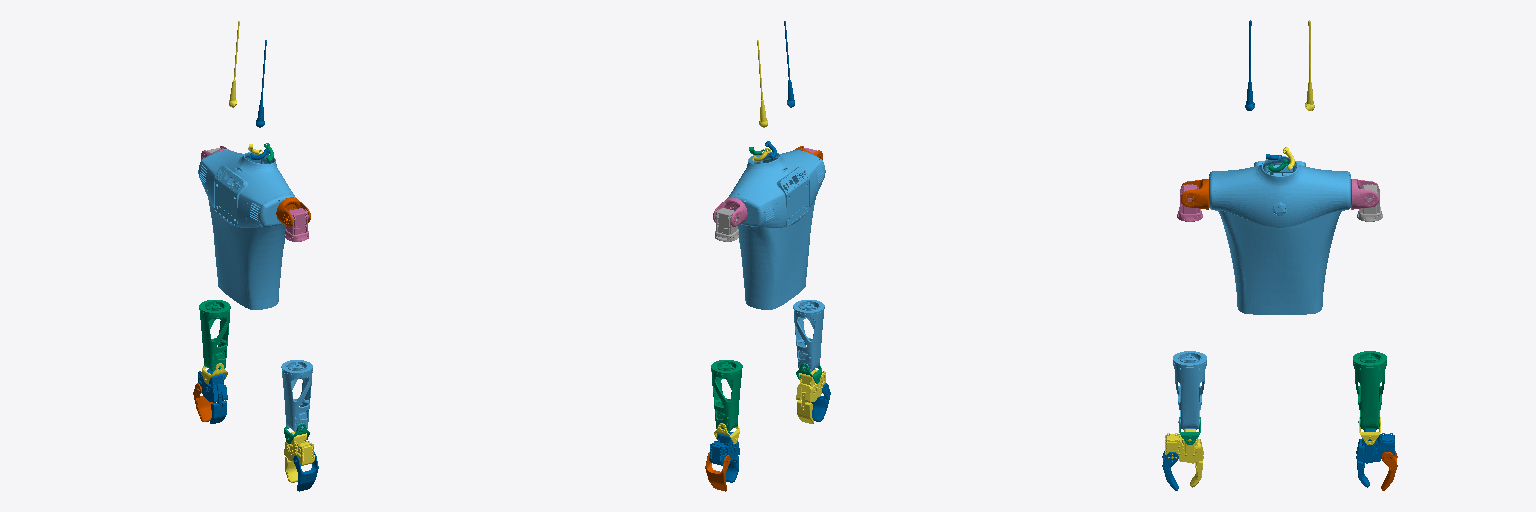
robot.urdf — reachy:
<?xml version="1.0"?>
<robot name="reachy">
    <mujoco>
        <compiler meshdir="data/reachy/reachy_meshes/" balanceinertia="true"/>
    </mujoco>
<!-- Torso Link -->

<link name="pedestal"/>

<link name="torso">
    <inertial>
        <origin xyz="0.0 0.019 -0.009" rpy="0.0 0.0 0.0"/>
        <mass value="0.527"/>
        <inertia ixx="2.89598e-3" ixy="-1.16791e-6" ixz="-8.28749e-6" iyy="4.491e-3" iyz="2.343e-4" izz="3.995e-3"/>
    </inertial>
    <visual name="">
        <origin xyz="0.0 0.0 0.0" rpy="0.0 0.0 0.0"/>
        <geometry>
            <mesh filename="data/reachy/reachy_meshes/torso.obj"/>
        </geometry>
    </visual>
    <collision>
        <origin xyz="0 0 -0.1" rpy="0 0.05 0" />
        <geometry>
            <box size="0.11 0.2 0.32" />
        </geometry>
    </collision>
</link>

<!-- Head Links -->

<link name="head">
    <inertial>
        <origin xyz="-0.009 -0.002 0.059" rpy="0.0 0.0 0.0"/>
        <mass value="0.237"/>
        <inertia ixx="1.676e-3" ixy="3.068e-6" ixz="1.2449e-4" iyy="1.368e-3" iyz="3.360e-5" izz="8.425e-4"/>
    </inertial>
    <visual name="">
        <origin xyz="0.0 0.0 0.0" rpy="0.0 0.0 0.0"/>
        <geometry>
            <mesh filename="data/reachy/reachy_meshes/head.obj"/>
        </geometry>
    </visual>
    <collision>
        <origin xyz="-0.009 -0.002 0.059" rpy="1.57 0.0 0.0"/>
        <geometry>
            <cylinder length="0.15" radius="0.06" />
        </geometry>
    </collision>
</link>

<link name="l_antenna_link">
    <inertial>
        <origin xyz="-0.001 0.0 0.008" rpy="0.0 0.0 0.0"/>
        <mass value="0.004"/>
        <inertia ixx="1.794e-7" ixy="-1.240e-5" ixz="1.91701e-8" iyy="1.5e-7" iyz="3.169e-6" izz="1.933e-7"/>
    </inertial>
    <visual name="">
        <origin xyz="0.0 0.0 0.0" rpy="0.0 0.0 0.0"/>
        <geometry>
            <mesh filename="data/reachy/reachy_meshes/antenna.obj"/>
        </geometry>
    </visual>
    <collision>
        <origin xyz="0.1 0.0 0.1" rpy="0.0 0 0.0"/>
        <geometry>
            <cylinder length="0.0" radius="0.0" />
        </geometry>
    </collision>
</link>

<link name="r_antenna_link">
    <inertial>
        <origin xyz="-0.001 0.0 0.008" rpy="0.0 0.0 0.0"/>
        <mass value="0.004"/>
        <inertia ixx="1.794e-7" ixy="-1.240e-5" ixz="1.91701e-8" iyy="1.5e-7" iyz="3.169e-6" izz="1.933e-7"/>
    </inertial>
    <visual name="">
        <origin xyz="0.0 0.0 0.0" rpy="0.0 0.0 0.0"/>
        <geometry>
            <mesh filename="data/reachy/reachy_meshes/antenna.obj"/>
        </geometry>
    </visual>
    <collision>
        <origin xyz="0.0 0.0 0.0" rpy="0.0 0.0 0.0"/>
        <geometry>
            <cylinder length="0.0" radius="0.0" />
        </geometry>
    </collision>
</link>

<!-- Right Arm Links -->

<link name="r_shoulder">
    <inertial>
        <origin xyz="-0.016 0.036 0.0" rpy="1.57 1.57 0.0"/>
        <mass value="0.053"/>
        <inertia ixx="3.308e-4" ixy="9.972e-8" ixz="-2.037e-9" iyy="4.650e-5" iyz="2.113e-6" izz="3.545e-5"/>
    </inertial>
    <visual name="">
        <origin xyz="0.0 0.04 0.0" rpy="1.57 1.57 0.0"/>
        <geometry>
            <mesh filename="data/reachy/reachy_meshes/shoulder.obj"/>
        </geometry>
    </visual>
    <collision>
        <origin xyz="0.0 0.04 0.0" rpy="1.57 1.57 0.0"/>
        <geometry>
            <cylinder length="0.09" radius="0.035" />
        </geometry>
    </collision>
</link>

<link name="r_shoulder_x">
    <inertial>
        <origin xyz="-0.0 0.0 -0.019" rpy="0.0 0.0 0.0"/>
        <mass value="0.158"/>
        <inertia ixx="6.887e+4" ixy="5.393e+0" ixz="-9.155e+2" iyy="7.895e+4" iyz="4.512e-1" izz="4.235e+4"/>
    </inertial>
    <visual name="">
        <origin xyz="0.0 0.0 0.0" rpy="0.0 0.0 0.0"/>
        <geometry>
            <mesh filename="data/reachy/reachy_meshes/shoulder_x.obj"/>
        </geometry>
    </visual>
    <collision>
        <origin xyz="0 0 -0.02" rpy="0.0 0.0 0.0"/>
        <geometry>
            <cylinder length="0.04" radius="0.035" />
        </geometry>
    </collision>
</link>

<link name="r_upper_arm">
    <inertial>
        <origin xyz="-0.004 0.0 -0.1426" rpy="0.0 0.0 0.0"/>
        <mass value="0.430"/>
        <inertia ixx="3.264e-3" ixy="-4.027e-8" ixz="1.395e-4" iyy="3.345e-3" iyz="1.885e-6" izz="2.616e-4"/>
    </inertial>
    <visual name="">
        <origin xyz="0.0 0.0 -0.0526" rpy="0.0 0.0 0.0"/>
        <geometry>
            <mesh filename="data/reachy/reachy_meshes/upper_arm.obj"/>
        </geometry>
    </visual>
    <collision>
        <origin xyz="0.0 0.0 -0.16" rpy="0.0 0.0 0.0"/>
        <geometry>
            <cylinder length="0.25" radius="0.04" />
        </geometry>
    </collision>
</link>

<link name="r_forearm">
    <inertial>
        <origin xyz="-0.008 0.0 -0.058" rpy="0.0 0.0 0.0"/>
        <mass value="0.162"/>
        <inertia ixx="2.532e-4" ixy="-2.999e-8" ixz="1.448e-5" iyy="2.538e-4" iyz="-4.323e-8" izz="1.234e-4"/>
    </inertial>
    <visual name="">
        <origin xyz="0.0 0.0 0.0" rpy="0.0 0.0 0.0"/>
        <geometry>
            <mesh filename="data/reachy/reachy_meshes/forearm.obj"/>
        </geometry>
    </visual>
    <collision>
        <origin xyz="0.0 0.0 -0.058" rpy="0.0 0.0 0.0"/>
        <geometry>
            <cylinder length="0.09" radius="0.04" />
        </geometry>
    </collision>
</link>

<link name="r_wrist">
    <inertial>
        <origin xyz="0.0 0.0 -0.193" rpy="0.0 0.0 0.0"/>
        <mass value="0.197"/>
        <inertia ixx="6.157e-4" ixy="5.706e-8" ixz="-1.045e-5" iyy="6.280e-4" iyz="4.862e-7" izz="1.050e-4"/>
    </inertial>
    <visual name="">
        <origin xyz="0.0 0.0 -0.100" rpy="0.0 0.0 0.0"/>
        <geometry>
            <mesh filename="data/reachy/reachy_meshes/wrist.obj"/>
        </geometry>
    </visual>
    <collision>
        <origin xyz="0.0 0.0 -0.18" rpy="0.0 0.0 0.0"/>
        <geometry>
            <cylinder length="0.14" radius="0.035" />
        </geometry>
    </collision>
</link>

<link name="r_wrist2hand">
    <inertial>
        <origin xyz="0.0 0.0 0.014" rpy="0.0 0.0 0.0"/>
        <mass value="0.01"/>
        <inertia ixx="6.750e-6" ixy="3.732e-11" ixz="-1.581e-11" iyy="6.060e-6" iyz="-1.746e-12" izz="5.774e-6"/>
    </inertial>
    <visual name="">
        <origin xyz="0.0 0.0 0.0" rpy="0.0 0.0 0.0"/>
        <geometry>
            <mesh filename="data/reachy/reachy_meshes/wrist2hand.obj"/>
        </geometry>
    </visual>
    <collision>
        <origin xyz="0.0 0.0 -0.03" rpy="0.0 0.0 0.0"/>
        <geometry>
            <cylinder length="0.06" radius="0.03" />
        </geometry>
    </collision>
</link>

<link name="r_gripper_thumb">
    <inertial>
        <origin xyz="0.032 -0.008 0.0" rpy="0.0 1.57 0.0"/>
        <mass value="0.173"/>
        <inertia ixx="1.083e-4" ixy="-3.476e-5" ixz="1.331e-6" iyy="1.421e-4" iyz="6.730e-7" izz="2.112e-4"/>
    </inertial>
    <visual name="">
        <origin xyz="0.0 0.0 0.0" rpy="0.0 1.57 0.0"/>
        <geometry>
            <mesh filename="data/reachy/reachy_meshes/r_gripper_thumb.obj"/>
        </geometry>
    </visual>
    <collision>
        <origin xyz="0.0 0.02 -0.06" rpy="0.0 1.57 0.0"/>
        <geometry>
            <box size="0.1 0.012 0.035" />
        </geometry>
    </collision>
</link>

<link name="r_gripper_finger">
    <inertial>
        <origin xyz="-0.005 -0.043 -0.0" rpy="0.0 1.57 0.0"/>
        <mass value="0.035"/>
        <inertia ixx="9.166e-5" ixy="-6.559e-6" ixz="-3.952e-8" iyy="1.062e-5" iyz="5.276e-9" izz="8.704e-5"/>
    </inertial>
    <visual name="">
        <origin xyz="0.0 0.0 0.0" rpy="0.0 1.57 0.0"/>
        <geometry>
            <mesh filename="data/reachy/reachy_meshes/r_gripper_finger.obj"/>
        </geometry>
    </visual>
    <collision>
        <origin xyz="0.0 -0.01 -0.02" rpy="0.0 1.57 0.0"/>
        <geometry>
            <box size="0.1 0.012 0.035" />
        </geometry>
    </collision>
</link>

<link name="right_tip"/>


<!-- Left Arm Links -->

<link name="l_shoulder">
    <inertial>
        <origin xyz="-0.016 0.044 0.0" rpy="-1.57 1.57 0.0"/>
        <mass value="0.053"/>
        <inertia ixx="3.308e-4" ixy="9.972e-8" ixz="-2.037e-9" iyy="4.650e-5" iyz="2.113e-6" izz="3.545e-5"/>
    </inertial>
    <visual name="">
        <origin xyz="0.0 -0.04 0.0" rpy="-1.57 1.57 0.0"/>
        <geometry>
            <mesh filename="data/reachy/reachy_meshes/shoulder.obj"/>
        </geometry>
    </visual>
    <collision>
        <origin xyz="0.0 -0.04 0.0" rpy="-1.57 1.57 0.0"/>
        <geometry>
            <cylinder length="0.09" radius="0.035" />
        </geometry>
    </collision>
</link>

<link name="l_shoulder_x">
    <inertial>
        <origin xyz="0.0 0.0 -0.019" rpy="0.0 0.0 0.0"/>
        <mass value="0.158"/>
        <inertia ixx="6.887e+4" ixy="5.393e+0" ixz="-9.155e+2" iyy="7.895e+4" iyz="4.512e-1" izz="4.235e+4"/>
    </inertial>
    <visual name="">
        <origin xyz="0.0 0.0 0.0" rpy="0.0 0.0 0.0"/>
        <geometry>
            <mesh filename="data/reachy/reachy_meshes/shoulder_x.obj"/>
        </geometry>
    </visual>
    <collision>
        <origin xyz="0 0 -0.02" rpy="0.0 0.0 0.0"/>
        <geometry>
            <cylinder length="0.04" radius="0.035" />
        </geometry>
    </collision>
</link>

<link name="l_upper_arm">
    <inertial>
        <origin xyz="-0.004 0.0 -0.1426" rpy="0.0 0.0 0.0"/>
        <mass value="0.430"/>
        <inertia ixx="3.264e-3" ixy="-4.027e-8" ixz="1.395e-4" iyy="3.345e-3" iyz="1.885e-6" izz="2.616e-4"/>
    </inertial>
    <visual name="">
        <origin xyz="0.0 0.0 -0.0526" rpy="0.0 0.0 0.0"/>
        <geometry>
            <mesh filename="data/reachy/reachy_meshes/upper_arm.obj"/>
        </geometry>
    </visual>
    <collision>
        <origin xyz="0.0 0.0 -0.16" rpy="0.0 0.0 0.0"/>
        <geometry>
            <cylinder length="0.25" radius="0.04" />
        </geometry>
    </collision>
</link>

<link name="l_forearm">
    <inertial>
        <origin xyz="-0.008 0.0 -0.058" rpy="0.0 0.0 0.0"/>
        <mass value="0.162"/>
        <inertia ixx="2.532e-4" ixy="-2.999e-8" ixz="1.448e-5" iyy="2.538e-4" iyz="-4.323e-8" izz="1.234e-4"/>
    </inertial>
    <visual name="">
        <origin xyz="0.0 0.0 0.0" rpy="0.0 0.0 0.0"/>
        <geometry>
            <mesh filename="data/reachy/reachy_meshes/forearm.obj"/>
        </geometry>
    </visual>
    <collision>
        <origin xyz="0.0 0.0 -0.058" rpy="0.0 0.0 0.0"/>
        <geometry>
            <cylinder length="0.09" radius="0.04" />
        </geometry>
    </collision>
</link>

<link name="l_wrist">
    <inertial>
        <origin xyz="0.0 0.0 -0.193" rpy="0.0 0.0 0.0"/>
        <mass value="0.197"/>
        <inertia ixx="6.157e-4" ixy="5.706e-8" ixz="-1.045e-5" iyy="6.280e-4" iyz="4.862e-7" izz="1.050e-4"/>
    </inertial>
    <visual name="">
        <origin xyz="0.0 0.0 -0.1" rpy="0.0 0.0 0.0"/>
        <geometry>
            <mesh filename="data/reachy/reachy_meshes/wrist.obj"/>
        </geometry>
    </visual>
    <collision>
        <origin xyz="0.0 0.0 -0.18" rpy="0.0 0.0 0.0"/>
        <geometry>
            <cylinder length="0.14" radius="0.035" />
        </geometry>
    </collision>
</link>

<link name="l_wrist2hand">
    <inertial>
        <origin xyz="0.0 0.0 0.014" rpy="0.0 0.0 0.0"/>
        <mass value="0.01"/>
        <inertia ixx="6.750e-6" ixy="3.732e-11" ixz="-1.581e-11" iyy="6.060e-6" iyz="-1.746e-12" izz="5.774e-6"/>
    </inertial>
    <visual name="">
        <origin xyz="0.0 0.0 0.0" rpy="0.0 0.0 0.0"/>
        <geometry>
            <mesh filename="data/reachy/reachy_meshes/wrist2hand.obj"/>
        </geometry>
    </visual>
    <collision>
        <origin xyz="0.0 0.0 -0.03" rpy="0.0 0.0 0.0"/>
        <geometry>
            <cylinder length="0.06" radius="0.03" />
        </geometry>
    </collision>
</link>

<link name="l_gripper_thumb">
    <inertial>
        <origin xyz="0.032 0.008 0.0" rpy="0.0 1.57 0.0"/>
        <mass value="0.173"/>
        <inertia ixx="1.088e+5" ixy="3.479e+4" ixz="1.357e+3" iyy="1.422e+5" iyz="-7.930e+2" izz="2.116e+5"/>
    </inertial>
    <visual name="">
        <origin xyz="0.0 0.0 0.0" rpy="0.0 1.57 0.0"/>
        <geometry>
            <mesh filename="data/reachy/reachy_meshes/l_gripper_thumb.obj"/>
        </geometry>
    </visual>
    <collision>
        <origin xyz="0.0 -0.02 -0.06" rpy="0.0 1.57 0.0"/>
        <geometry>
            <box size="0.1 0.012 0.035" />
        </geometry>
    </collision>
</link>

<link name="l_gripper_finger">
    <inertial>
        <origin xyz="0.005 -0.043 0.0" rpy="0.0 1.57 0.0"/>
        <mass value="0.035"/>
        <inertia ixx="9.165e-5" ixy="6.559e-6" ixz="3.609e-10" iyy="1.062e-5" iyz="4.666e-9" izz="8.705e-5"/>
    </inertial>
    <visual name="">
        <origin xyz="0.0 0.0 0.0" rpy="0.0 1.57 0.0"/>
        <geometry>
            <mesh filename="data/reachy/reachy_meshes/l_gripper_finger.obj"/>
        </geometry>
    </visual>
    <collision>
        <origin xyz="0.0 0.01 -0.02" rpy="0.0 1.57 0.0"/>
        <geometry>
            <box size="0.1 0.012 0.035" />
        </geometry>
    </collision>
</link>

<link name="left_tip"/>

<!-- Head and Torso joints -->

<joint name="pedestal" type="fixed">
    <origin xyz="0 0 1" rpy="0 0 0" />
    <parent link="pedestal" />
    <child link="torso" />
</joint>

<joint name="r_antenna" type="revolute">
    <origin xyz="-0.052 -0.057 0.086" rpy="-0.166 -1.054 1.11"/>
    <parent link="head"/>
    <child link="r_antenna_link"/>
    <axis xyz="0 0 1"/>
   <limit lower="-2.618" upper="2.618" effort="10." velocity="0.0"/>
</joint>

<joint name="l_antenna" type="revolute">
    <origin xyz="-0.052 0.057 0.086" rpy="0.166 -1.054 -1.11"/>
    <parent link="head"/>
    <child link="l_antenna_link"/>
    <axis xyz="0 0 1"/>
   <limit lower="-2.618" upper="2.618" effort="10." velocity="0.0"/>
</joint>


<!-- Right Arm joint -->

<joint name="r_shoulder_pitch" type="revolute">
    <origin xyz="0.0 -0.19 0.0" rpy="0.0 0.0 0.0"/>
    <parent link="torso"/>
    <child link="r_shoulder"/>
    <axis xyz="0 1 0"/>
   <limit lower="-2.618" upper="1.57" effort="10." velocity="0.0"/>
</joint>

<joint name="r_shoulder_roll" type="revolute">
    <origin xyz="0 0 0" rpy="0.0 0.0 0.0"/>
    <parent link="r_shoulder"/>
    <child link="r_shoulder_x"/>
    <axis xyz="1 0 0"/>
   <limit lower="-3.14" upper="0.174" effort="10." velocity="0.0"/>
</joint>

<joint name="r_arm_yaw" type="revolute">
    <origin xyz="0 0 0" rpy="0.0 0.0 0.0"/>
    <parent link="r_shoulder_x"/>
    <child link="r_upper_arm"/>
    <axis xyz="0 0 1"/>
   <limit lower="-1.57" upper="1.57" effort="10." velocity="0.0"/>
</joint>

<joint name="r_elbow_pitch" type="revolute">
    <origin xyz="0 0 -0.28" rpy="0.0 0.0 0.0"/>
    <parent link="r_upper_arm"/>
    <child link="r_forearm"/>
    <axis xyz="0 1 0"/>
   <limit lower="-2.182" upper="0" effort="10." velocity="0.0"/>
</joint>

<joint name="r_forearm_yaw" type="revolute">
    <origin xyz="0 0 0" rpy="0.0 0.0 0.0"/>
    <parent link="r_forearm"/>
    <child link="r_wrist"/>
    <axis xyz="0 0 1"/>
   <limit lower="-1.745" upper="1.745" effort="10." velocity="0.0"/>
</joint>

<joint name="r_wrist_pitch" type="revolute">
    <origin xyz="0 0 -0.25" rpy="0.0 0.0 0.0"/>
    <parent link="r_wrist"/>
    <child link="r_wrist2hand"/>
    <axis xyz="0 1 0"/>
   <limit lower="-0.785" upper="0.785" effort="10." velocity="0.0"/>
</joint>


<joint name="r_wrist_roll" type="revolute">
    <origin xyz="0 0 -0.0325" rpy="0.0 0.0 0.0"/>
    <parent link="r_wrist2hand"/>
    <child link="r_gripper_thumb"/>
    <axis xyz="1 0 0"/>
   <limit lower="-0.785" upper="0.785" effort="10." velocity="0.0"/>
</joint>

<joint name="r_gripper" type="revolute">
    <origin xyz="0.0 -0.037 -0.03998" rpy="0.0 0.0 0.0"/>
    <parent link="r_gripper_thumb"/>
    <child link="r_gripper_finger"/>
    <axis xyz="1 0 0"/>
   <limit lower="-1.2" upper="0.35" effort="10." velocity="0.0"/>
</joint>

<joint name="r_tip" type="fixed">
    <origin xyz="0 -0.012 -0.085" rpy="0 0 0" />
    <parent link="r_gripper_thumb" />
    <child link="right_tip" />
</joint>

<!-- Left arm joints -->
<joint name="l_shoulder_pitch" type="revolute">
    <origin xyz="0.0 0.19 0.0" rpy="0.0 0.0 0.0"/>
    <parent link="torso"/>
    <child link="l_shoulder"/>
    <axis xyz="0 1 0"/>
   <limit lower="-2.618" upper="1.57" effort="10." velocity="0.0"/>
</joint>

<joint name="l_shoulder_roll" type="revolute">
    <origin xyz="0 0 0" rpy="0.0 0.0 0.0"/>
    <parent link="l_shoulder"/>
    <child link="l_shoulder_x"/>
    <axis xyz="1 0 0"/>
   <limit lower="-0.174" upper="3.14" effort="10." velocity="0.0"/>
</joint>

<joint name="l_arm_yaw" type="revolute">
    <origin xyz="0 0 0" rpy="0.0 0.0 0.0"/>
    <parent link="l_shoulder_x"/>
    <child link="l_upper_arm"/>
    <axis xyz="0 0 1"/>
   <limit lower="-1.57" upper="1.57" effort="10." velocity="0.0"/>
</joint>

<joint name="l_elbow_pitch" type="revolute">
    <origin xyz="0 0 -0.28" rpy="0.0 0.0 0.0"/>
    <parent link="l_upper_arm"/>
    <child link="l_forearm"/>
    <axis xyz="0 1 0"/>
   <limit lower="-2.182" upper="0" effort="10." velocity="0.0"/>
</joint>

<joint name="l_forearm_yaw" type="revolute">
    <origin xyz="0 0 0" rpy="0.0 0.0 0.0"/>
    <parent link="l_forearm"/>
    <child link="l_wrist"/>
    <axis xyz="0 0 1"/>
   <limit lower="-1.745" upper="1.745" effort="10." velocity="0.0"/>
</joint>


<joint name="l_wrist_pitch" type="revolute">
    <origin xyz="0 0 -0.25" rpy="0.0 0.0 0.0"/>
    <parent link="l_wrist"/>
    <child link="l_wrist2hand"/>
    <axis xyz="0 1 0"/>
   <limit lower="-0.785" upper="0.785" effort="10." velocity="0.0"/>
</joint>


<joint name="l_wrist_roll" type="revolute">
    <origin xyz="0 0 -0.0325" rpy="0.0 0.0 0.0"/>
    <parent link="l_wrist2hand"/>
    <child link="l_gripper_thumb"/>
    <axis xyz="1 0 0"/>
   <limit lower="-0.785" upper="0.785" effort="10." velocity="0.0"/>
</joint>

<joint name="l_gripper" type="revolute">
    <origin xyz="0.0 0.037 -0.03998" rpy="0.0 0.0 0.0"/>
    <parent link="l_gripper_thumb"/>
    <child link="l_gripper_finger"/>
    <axis xyz="1 0 0"/>
   <limit lower="-0.35" upper="1.2" effort="10." velocity="0.0"/>
</joint>

<joint name="l_tip" type="fixed">
    <origin xyz="0 0.012 -0.085" rpy="0 0 0" />
    <parent link="l_gripper_thumb" />
    <child link="left_tip" />
</joint>

<!-- Head joint... -->

<!-- ...with a fixed joint -->
<!--
<joint name="torso2head" type="fixed">
    <origin xyz="0.015 0.0 0.095" rpy="0 0.174 0" />
    <parent link="torso" />
    <child link="head" />
</joint>
-->

<!-- ...with a ball orbita joint -->
<joint name="neck_roll" type="revolute">
    <origin xyz="0.015 0.0 0.095" rpy="0 0.174 0" />
    <parent link="torso"/>
    <child link="head_x"/>
    <axis xyz="1 0 0"/>
   <limit lower="-0.8" upper="0.8" effort="10." velocity="0.0"/>
</joint>

<link name="head_x" />

<joint name="neck_pitch" type="revolute">
    <origin xyz="0 0 0" rpy="0.0 0.0 0.0"/>
    <parent link="head_x"/>
    <child link="head_y"/>
    <axis xyz="0 1 0"/>
   <limit lower="-0.8" upper="1.13" effort="10." velocity="0.0"/>
</joint>

<link name="head_y" />

<joint name="neck_yaw" type="revolute">
    <origin xyz="0 0 0" rpy="0.0 0.0 0.0"/>
    <parent link="head_y"/>
    <child link="head_z"/>
    <axis xyz="0 0 1"/>
   <limit lower="-2.79" upper="2.79" effort="10." velocity="0.0"/>
</joint>

<link name="head_z" />

<joint name="neck_fixed" type="fixed">
    <origin xyz="0 0 0" rpy="0.0 0.0 0.0"/>
    <parent link="head_z" />
    <child link="head" />
</joint>

<!-- Fixed Orbita Arms Visuals -->

<joint name="neck_top" type="fixed">
    <origin xyz="0.0067 0.0 0.0478" rpy="0 0.174 0"/>
    <parent link="torso"/>
    <child link="top_neck_arm"/>
</joint>

<link name="top_neck_arm">
    <visual name="">
        <origin xyz="0.0 0.0 0.0" rpy="0.0 0.0 0.5236"/>
        <geometry>
            <mesh filename="data/reachy/reachy_meshes/orbita_arm.obj"/>
        </geometry>
    </visual>
    <collision>
        <origin xyz="0.0 0.0 0.0" rpy="0.0 0.0 0.0"/>
        <geometry>
            <cylinder length="0.0" radius="0.0" />
        </geometry>
    </collision>
</link>

<joint name="neck_middle" type="fixed">
    <origin xyz="0.0067 0.0 0.0478" rpy="0 0.174 0"/>
    <parent link="torso"/>
    <child link="middle_neck_arm"/>
</joint>

<link name="middle_neck_arm">
    <visual name="">
        <origin xyz="0.0 0.0 0.0" rpy="0.0 0.0 2.618"/>
        <geometry>
            <mesh filename="data/reachy/reachy_meshes/orbita_arm.obj"/>
        </geometry>
    </visual>
    <collision>
        <origin xyz="0.0 0.0 0.0" rpy="0.0 0.0 0.0"/>
        <geometry>
            <cylinder length="0.0" radius="0.0" />
        </geometry>
    </collision>
</link>

<joint name="neck_bottom" type="fixed">
    <origin xyz="0.0067 0.0 0.0478" rpy="0 0.174 0"/>
    <parent link="torso"/>
    <child link="bottom_neck_arm"/>
</joint>

<link name="bottom_neck_arm">
    <visual name="">
        <origin xyz="0.0 0.0 0.0" rpy="0.0 0.0 -1.57"/>
        <geometry>
            <mesh filename="data/reachy/reachy_meshes/orbita_arm.obj"/>
        </geometry>
    </visual>
    <collision>
        <origin xyz="0.0 0.0 0.0" rpy="0.0 0.0 0.0"/>
        <geometry>
            <cylinder length="0.0" radius="0.0" />
        </geometry>
    </collision>
</link>

<!-- Cameras -->

<joint name="left_cam_fixed" type="fixed">
    <origin xyz="0.0033 0.03625 0.061" rpy="0.0 0.0 0.0"/>
    <parent link="head" />
    <child link="left_camera" />
</joint>

<link name="left_camera" />

<joint name="right_cam_fixed" type="fixed">
    <origin xyz="0.0033 -0.03625 0.061" rpy="0.0 0.0 0.0"/>
    <parent link="head" />
    <child link="right_camera" />
</joint>

<link name="right_camera" />

</robot>

--- What the picture shows (computed from the rendered views, not written in the file) ---
3 views of the same robot in one strip: view 1: azimuth 30°, elevation 25°; view 2: azimuth 150°, elevation 25°; view 3: azimuth 270°, elevation 25° (orthographic).
Model reachy with 31 links and 30 joints (21 revolute, 9 fixed), rooted at pedestal, posed all joints at 0.
Visible links, largest first — view 1: torso, r_wrist, l_wrist, l_gripper_thumb, r_gripper_thumb, r_shoulder_x; view 2: torso, l_wrist, r_wrist, r_gripper_thumb, l_gripper_thumb, l_shoulder_x; view 3: torso, r_wrist, l_wrist, r_gripper_thumb, l_gripper_thumb, r_shoulder, l_shoulder.
Link boxes in pixels (bbox=[...]): torso: bbox=[198, 150, 295, 309]; r_wrist: bbox=[281, 360, 312, 432]; l_wrist: bbox=[199, 300, 230, 371]; l_gripper_thumb: bbox=[198, 369, 227, 423]; r_gripper_thumb: bbox=[284, 432, 314, 482]; r_shoulder_x: bbox=[285, 208, 308, 241]; torso: bbox=[728, 150, 825, 309]; l_wrist: bbox=[711, 360, 742, 432]; r_wrist: bbox=[793, 300, 824, 371]; r_gripper_thumb: bbox=[796, 369, 825, 423]; l_gripper_thumb: bbox=[709, 432, 739, 482]; l_shoulder_x: bbox=[715, 208, 738, 241]; torso: bbox=[1209, 156, 1350, 314]; r_wrist: bbox=[1173, 351, 1206, 429]; l_wrist: bbox=[1353, 351, 1386, 429]; r_gripper_thumb: bbox=[1165, 429, 1203, 487]; l_gripper_thumb: bbox=[1356, 429, 1394, 487]; r_shoulder: bbox=[1181, 179, 1208, 209]; l_shoulder: bbox=[1351, 179, 1378, 209].
Bounding box of the posed robot: 0.1484 × 0.4963 × 1.09 m (x, y, z).
18 mesh visuals loaded from 14 distinct referenced files (11 OBJ); not drawn: 5 (reference not matched to a file when rendering).